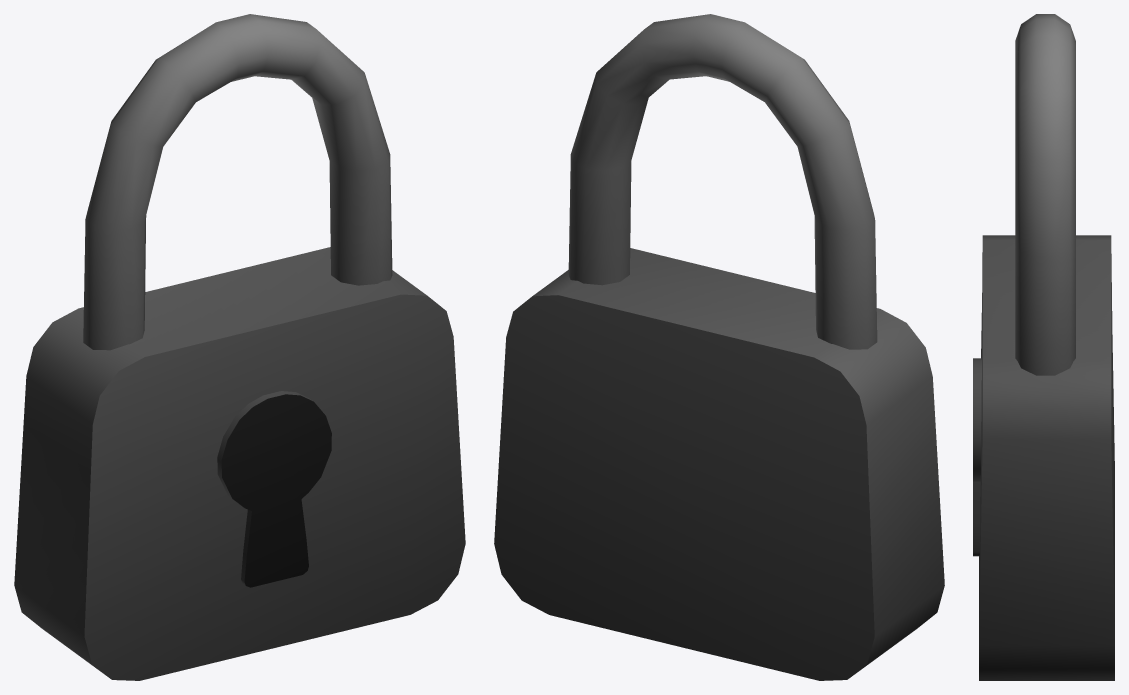
The model's file is Lock_1.fbx.
3 renders of one model, left to right at view 1: azimuth 30°, elevation 25°; view 2: azimuth 150°, elevation 25°; view 3: azimuth 270°, elevation 25°, orthographic. The views are drawn at different scales.
Visible parts, largest first — view 1: Lock_1; view 2: Lock_1; view 3: Lock_1.
Part boxes in pixels (<box>): Lock_1: <box>14,14,465,680</box>; Lock_1: <box>494,14,944,680</box>; Lock_1: <box>973,14,1114,680</box>.
Size of the model in its own units: 0.0615 by 0.0927 by 0.0205.
